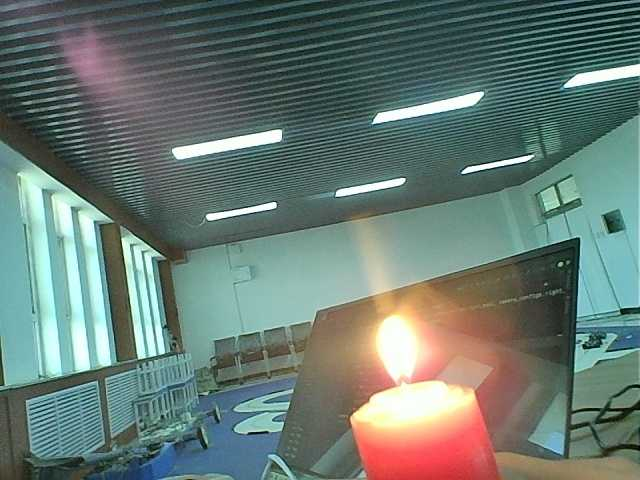candle: (344, 382, 525, 480)
fire: (369, 316, 428, 389)
